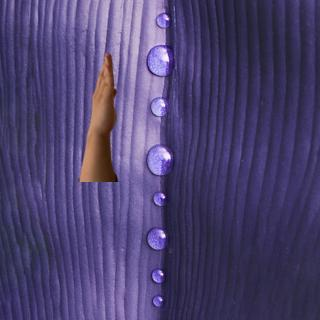RIGHT: (83, 46, 131, 138)
